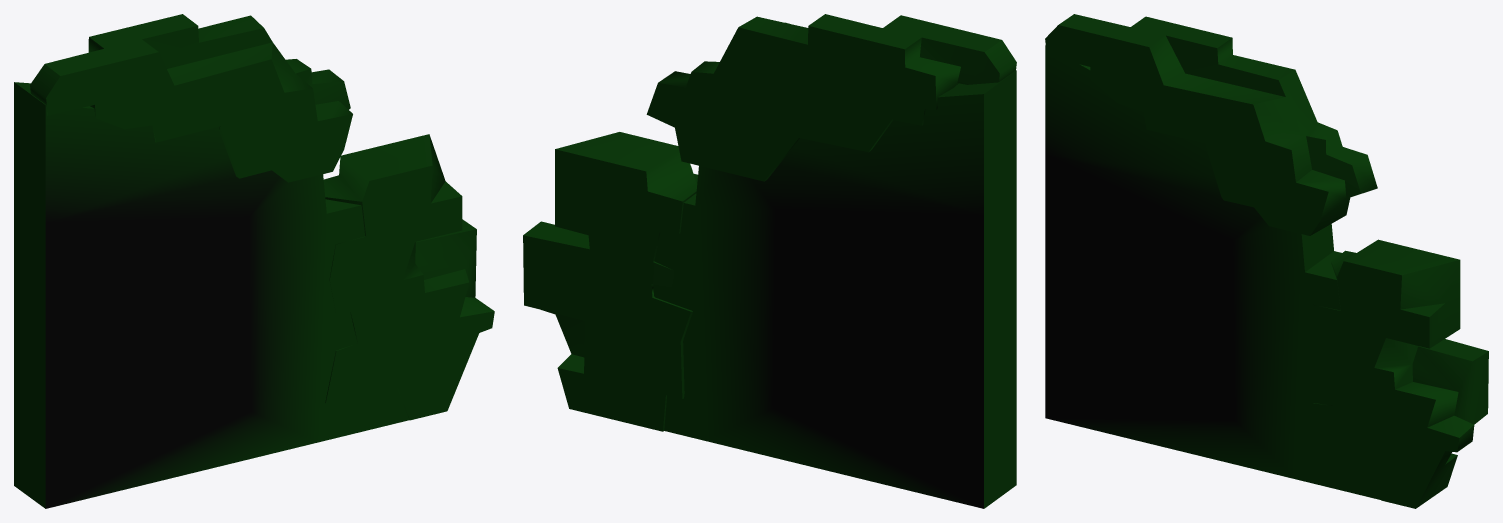
File: DBK_Brick_End_A.fbx
The picture shows the model from 3 angles, left to right: view 1: azimuth 30°, elevation 25°; view 2: azimuth 150°, elevation 25°; view 3: azimuth 330°, elevation 25°; orthographic projection. The views are drawn at different scales.
Parts seen in each view (by area): view 1: DBK_Brick_End_A; view 2: DBK_Brick_End_A; view 3: DBK_Brick_End_A.
Boxes of the visible parts, x1,y1,x2,y2 form: DBK_Brick_End_A: (14, 14, 494, 508); DBK_Brick_End_A: (523, 14, 1016, 508); DBK_Brick_End_A: (1045, 14, 1488, 508).
Size of the model in its own units: 164 by 150 by 21.
